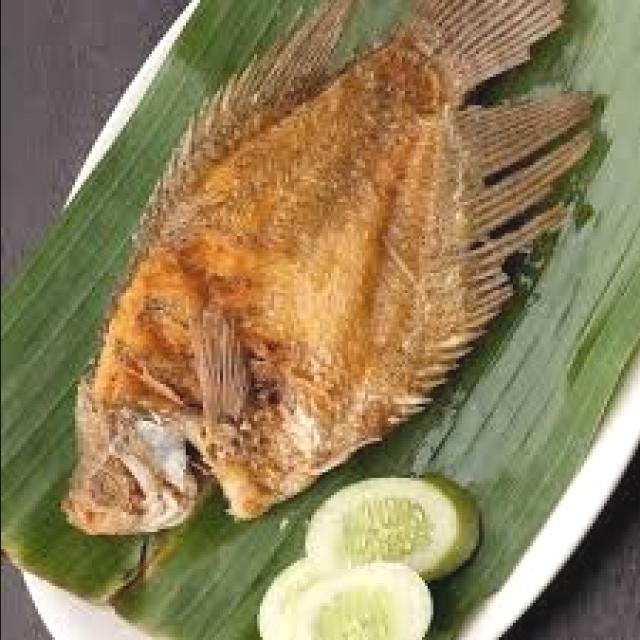ikan goreng: (60, 0, 597, 538)
